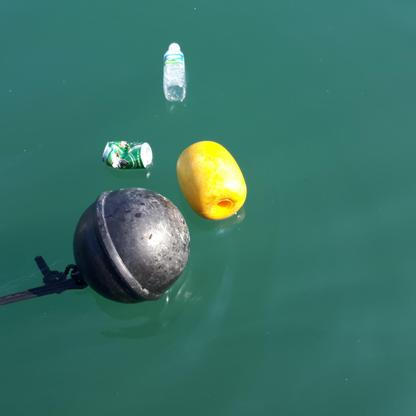can: (101, 140, 153, 169)
plastic bottle: (163, 42, 185, 102)
